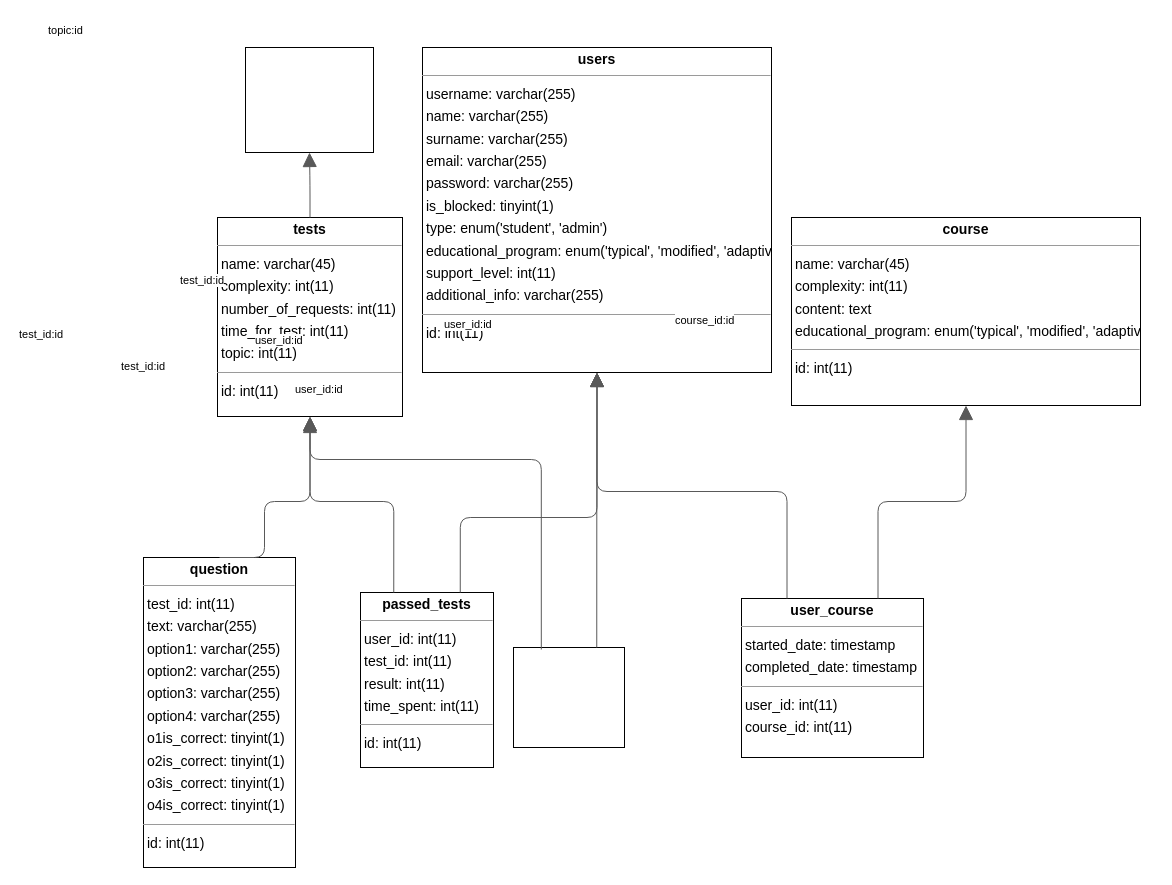
The diagram is 1172 pixels wide and 885 high, and some of its shapes have lost their labels. Each missing label, with the centre of its shape:
topic name: varchar(45) id: int(11): point (309, 99)
user_test user_id: int(11) test_id: int(11): point (568, 697)
